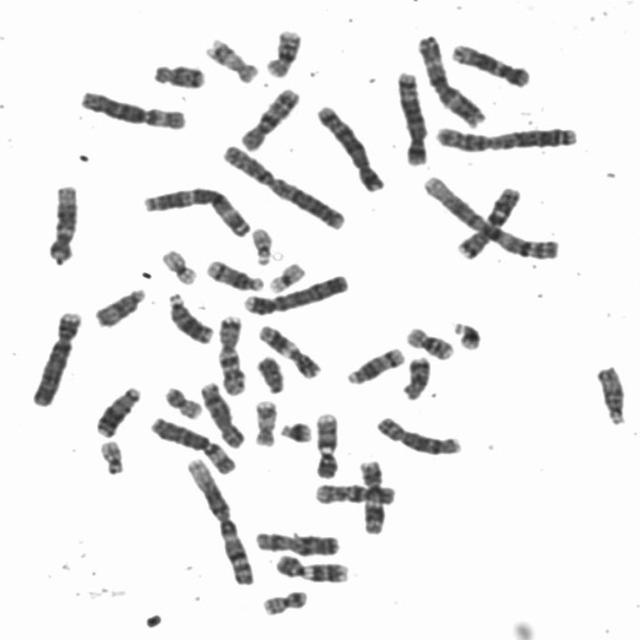A1: (416, 167, 564, 262), (180, 452, 256, 587)
A2: (215, 137, 348, 231), (428, 116, 582, 154)
A3: (410, 27, 488, 128), (135, 179, 254, 238)
B4: (24, 303, 84, 408), (236, 266, 352, 317)
B5: (310, 97, 387, 193), (390, 64, 432, 168)
C10: (233, 80, 303, 152), (308, 476, 399, 506)
C11: (252, 317, 324, 380), (353, 454, 387, 534)
C12: (444, 36, 534, 88), (40, 177, 80, 265)
C6: (144, 410, 239, 476), (73, 82, 189, 132)
C7: (453, 180, 524, 261), (211, 308, 249, 397)
C8: (370, 409, 465, 457), (194, 374, 246, 450)
C9: (269, 548, 352, 584), (308, 405, 343, 480)
D13: (161, 286, 216, 346), (89, 378, 143, 439)
D14: (340, 340, 407, 386), (200, 252, 266, 293)
D15: (88, 280, 148, 328), (590, 359, 630, 427)
E16: (399, 319, 458, 362), (259, 22, 304, 78)
E17: (200, 30, 260, 84), (247, 394, 280, 448)
E18: (146, 56, 208, 90), (396, 349, 434, 401)
F19: (155, 242, 200, 286), (262, 255, 309, 295)
F20: (158, 379, 205, 421), (256, 584, 310, 616)
G21: (446, 313, 486, 351), (272, 415, 315, 444)
G22: (93, 433, 127, 476), (245, 219, 275, 266)
X: (249, 525, 343, 557)
Y: (250, 349, 288, 394)
